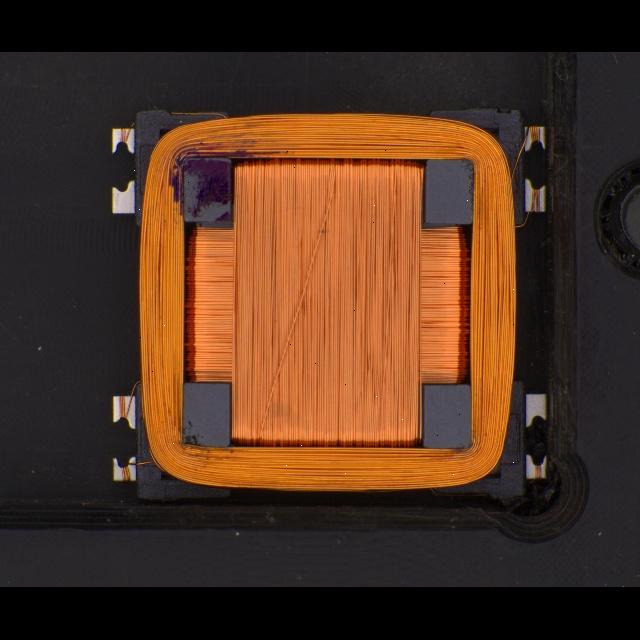Winding_Z: (131, 108, 522, 497)
